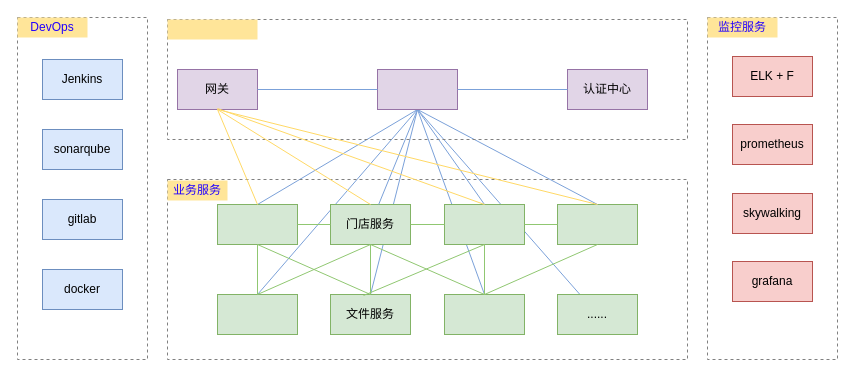
Some shapes in this 855 by 377 pixel diagram are drawn without their labels. The centre of each missing label's shape, as x and y in pixels:
商品服务: the point at 257,224
微服务基础组件: the point at 212,29
打印服务: the point at 257,314
支付服务: the point at 484,314
注册中心: the point at 417,89
用户服务: the point at 484,224
销售服务: the point at 597,224
